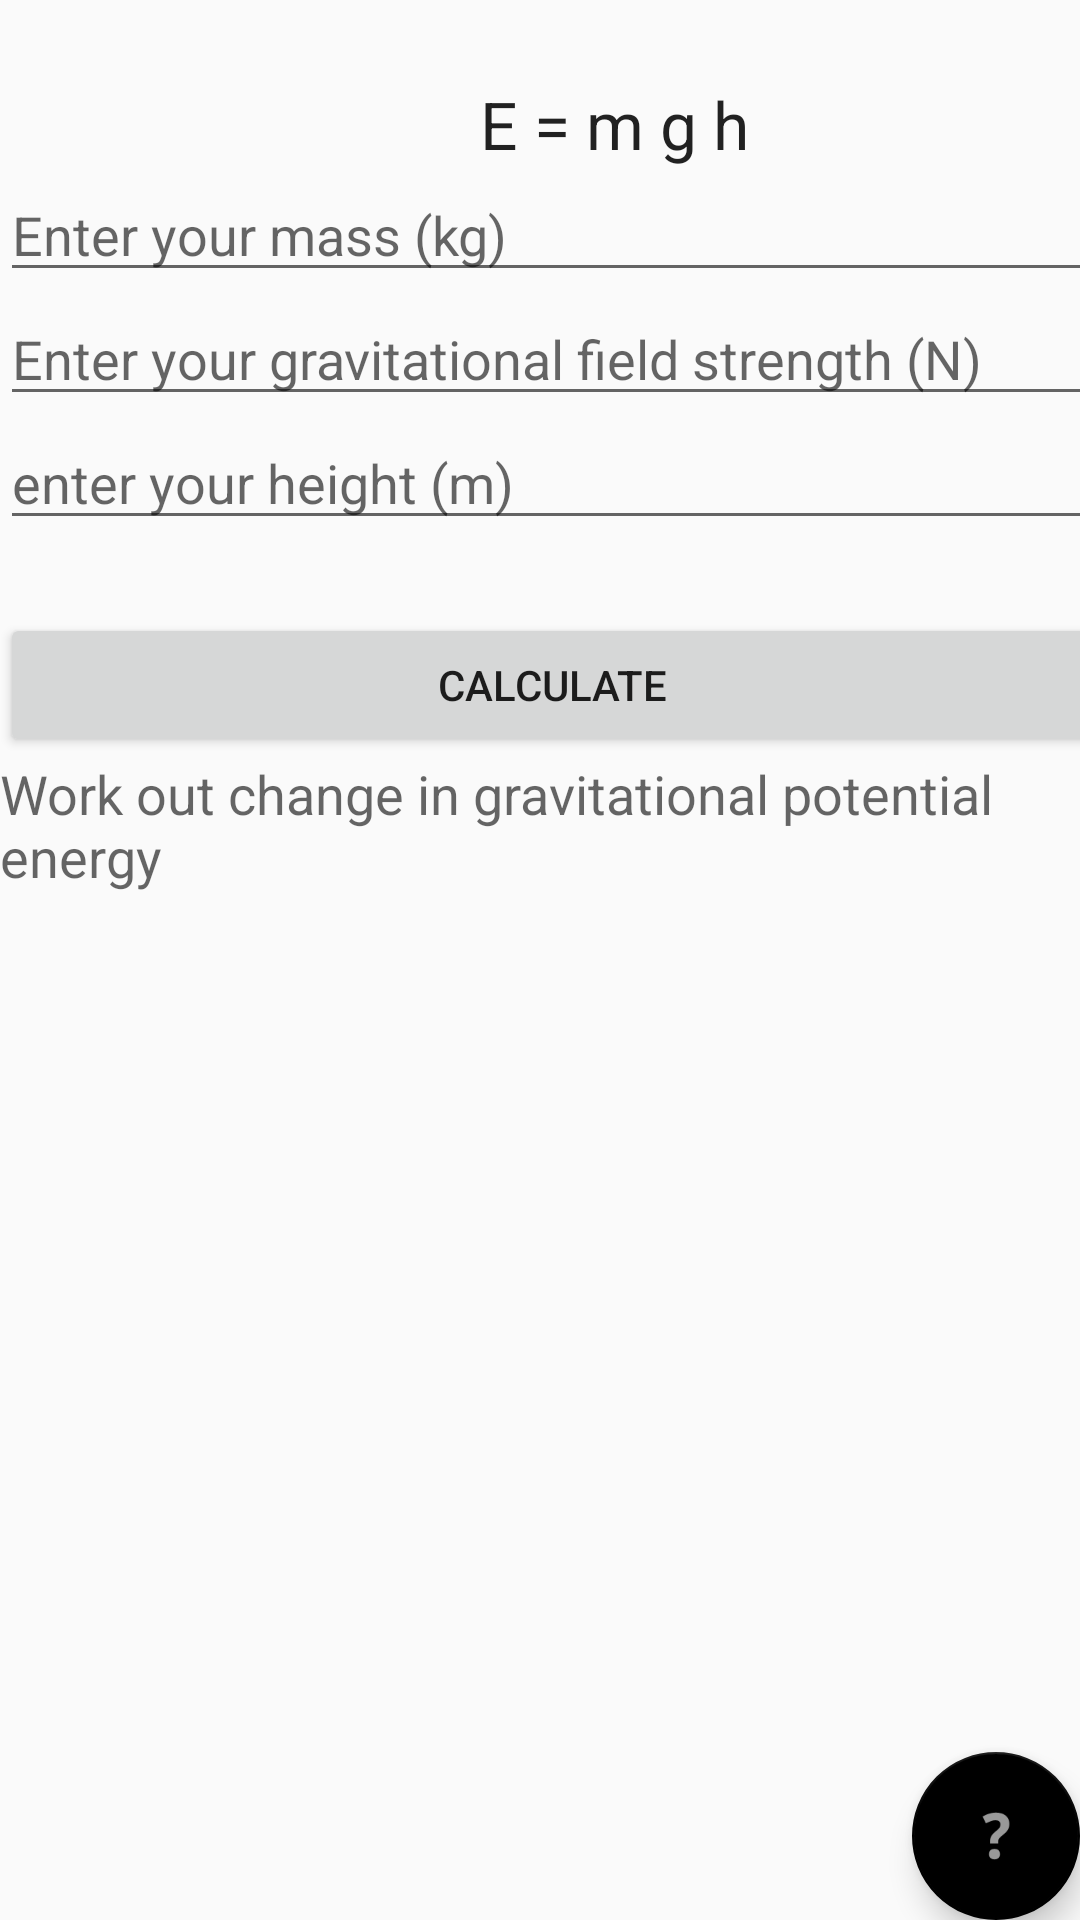

Where to tap for icons on this 1080 x 1920 app screen, as point (x, y):
help: point (996, 1836)
